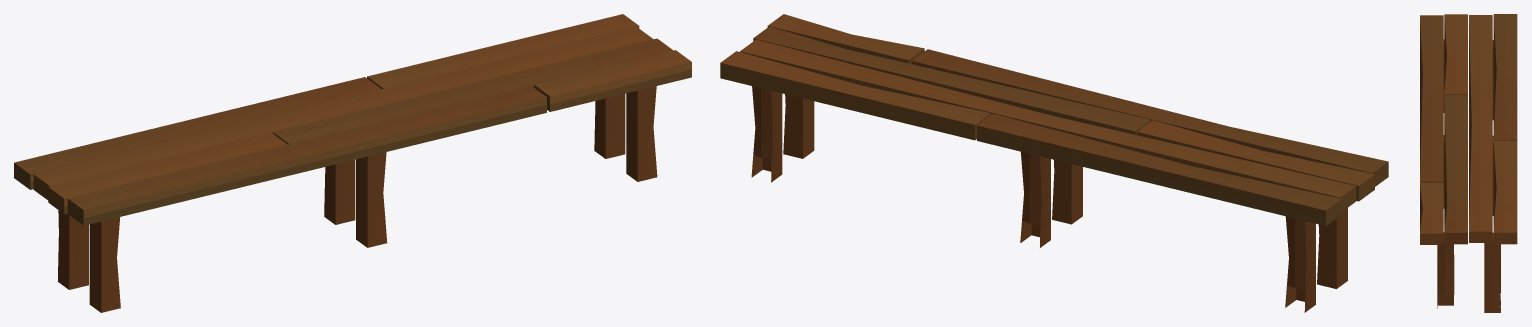
Rendered from g_o_CellBench.fbx.
3 views of the same model, side by side, from view 1: azimuth 30°, elevation 25°; view 2: azimuth 150°, elevation 25°; view 3: azimuth 270°, elevation 25° (orthographic). The views are drawn at different scales.
Parts seen in each view (by area): view 1: bench2; view 2: bench2; view 3: bench2.
Part boxes in pixels (box(x1,y1,x2,y2)): bench2: box(14, 14, 691, 312); bench2: box(720, 14, 1388, 312); bench2: box(1420, 14, 1517, 312).
Bounding box in the file's own units: 231 × 44.26 × 44.55.
